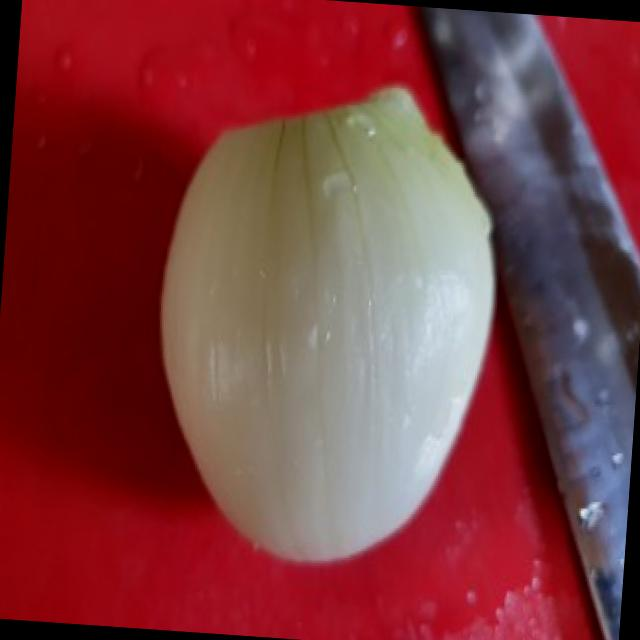onion: (111, 48, 523, 601)
